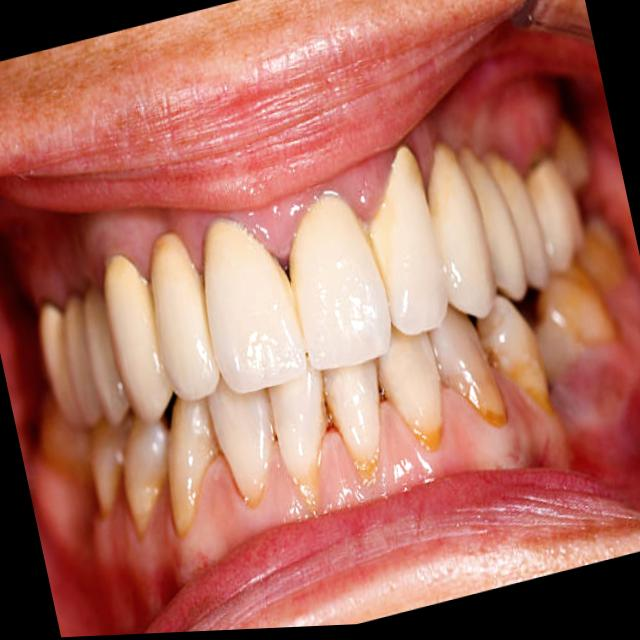calculus: (383, 392, 439, 447), (447, 373, 506, 424), (280, 437, 321, 508), (168, 470, 204, 535), (354, 402, 380, 483), (278, 260, 302, 338)
